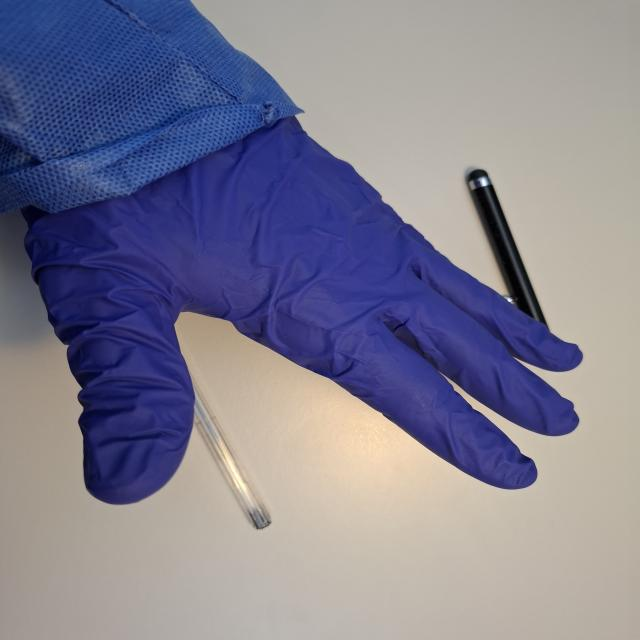glove_on: (17, 104, 587, 508)
